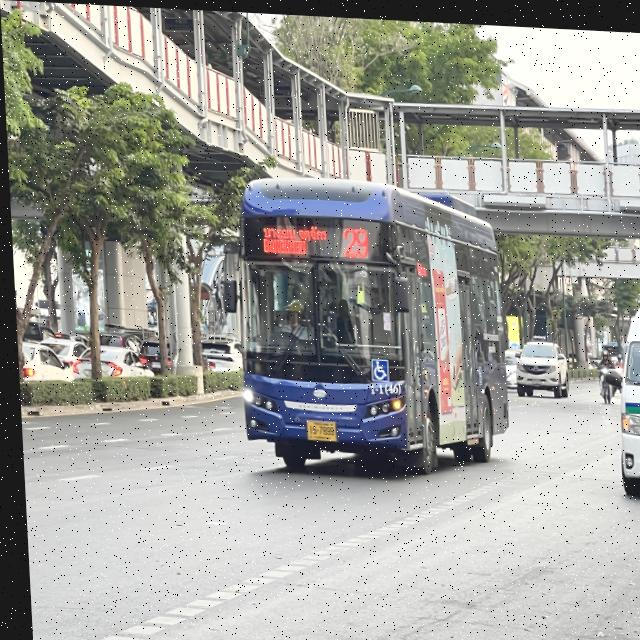Bus-Line-Number: (336, 220, 371, 257)
Destination-Sign-Normal: (259, 220, 329, 256)
TSB-Bus: (215, 164, 509, 493)
